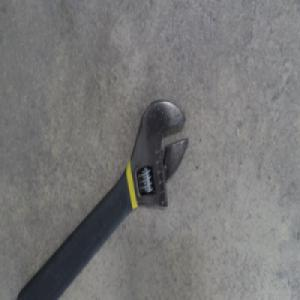AdjustableWrench: (24, 97, 189, 294)
